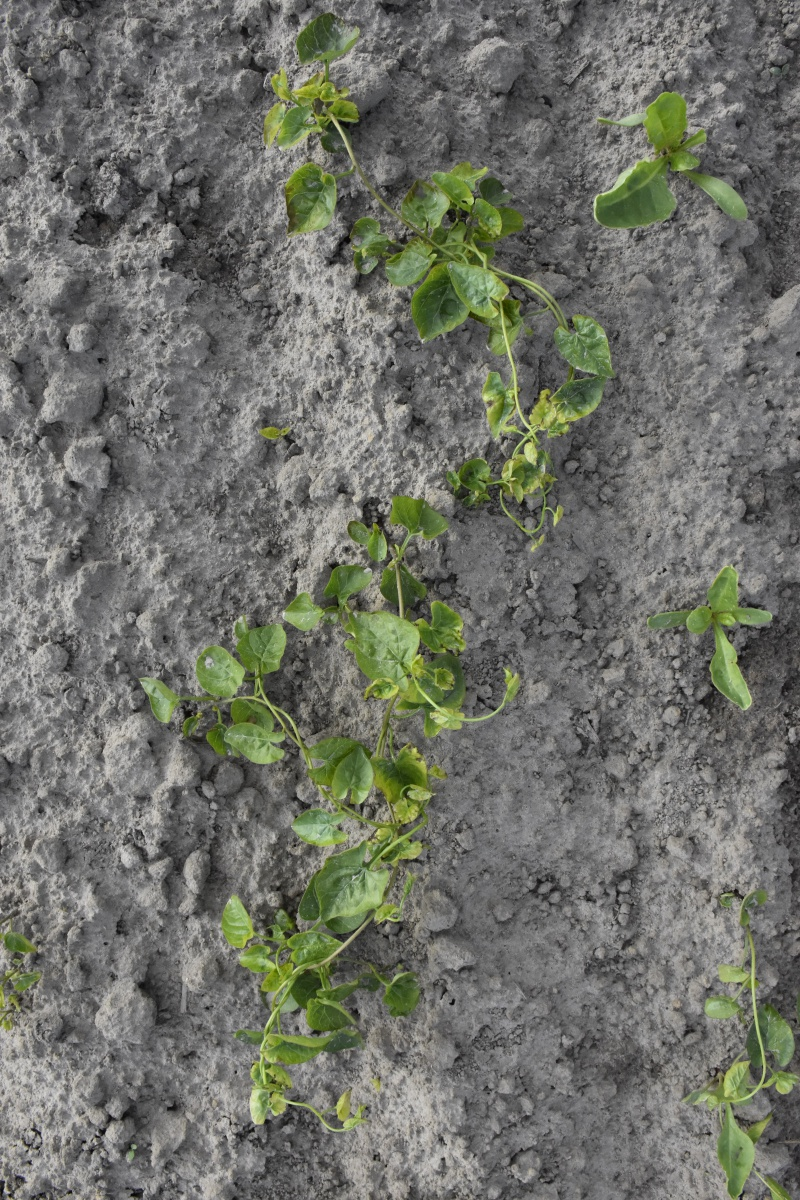field bindweed: (140, 488, 511, 1112), (270, 18, 606, 492), (693, 885, 800, 1196)
sugar beet: (587, 91, 753, 241), (643, 559, 781, 725)
